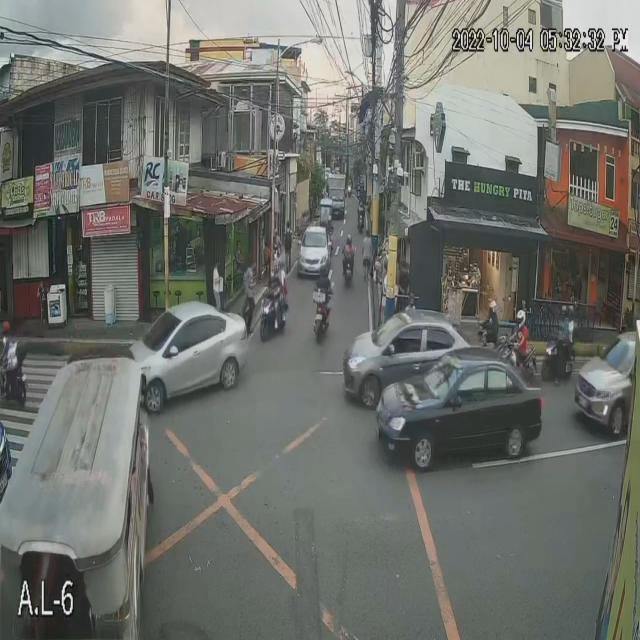Full-Faced: (515, 312, 532, 338), (488, 292, 500, 323), (558, 306, 571, 328), (0, 319, 14, 339), (344, 230, 354, 247), (271, 256, 279, 276), (320, 266, 330, 281), (284, 220, 293, 235), (323, 253, 330, 264)
